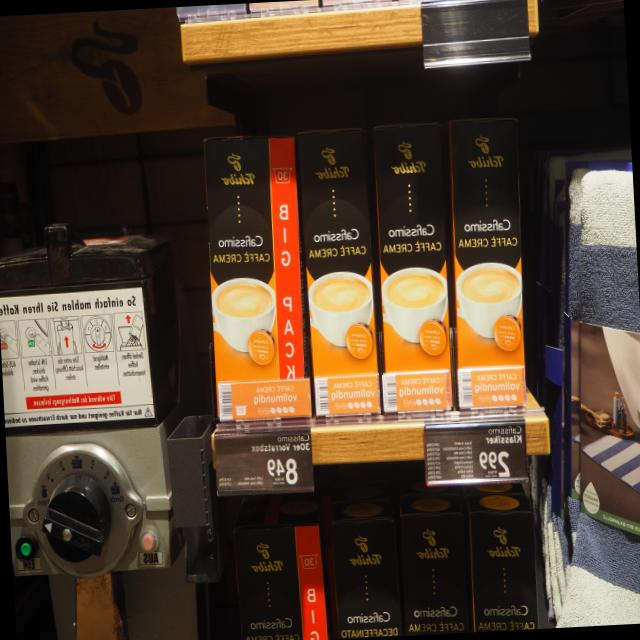Simo CCVollmundig: (199, 129, 312, 425)
Simo CCVollmundig bigpack: (366, 120, 462, 418), (298, 118, 386, 426), (444, 112, 529, 419)
